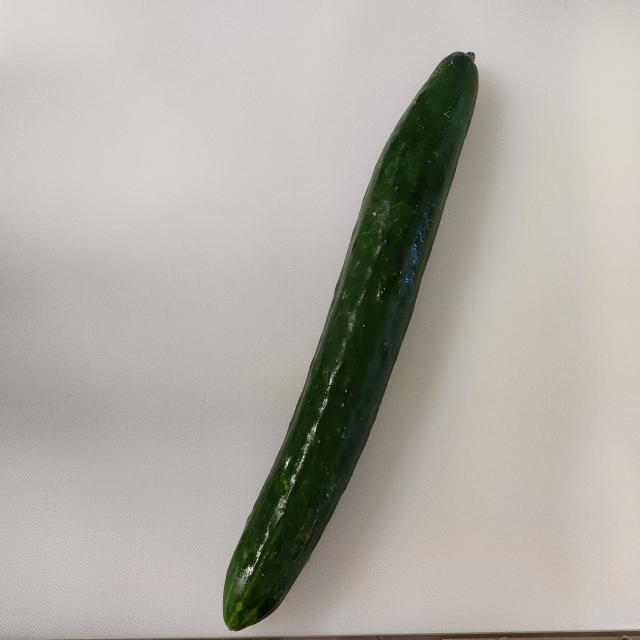cucumber: (222, 49, 479, 631)
